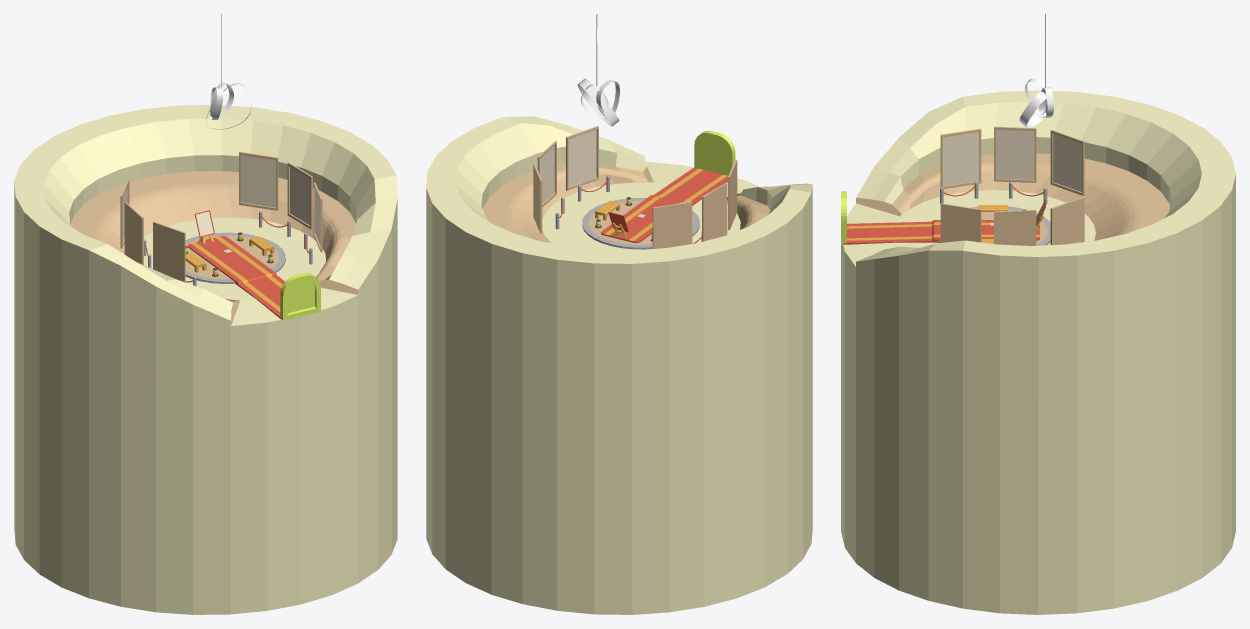
File: MemorialRoom_to_MemorialPiece.fbx
3 views of the same model, side by side, from view 1: azimuth 30°, elevation 25°; view 2: azimuth 150°, elevation 25°; view 3: azimuth 270°, elevation 25° (orthographic). The views are drawn at different scales.
Visible parts, largest first — view 1: Hall, Picture.002, Picture.001, Picture, Cube.001, Portal, Cube, Chair.001; view 2: Hall, Picture, Picture.002, Picture.001, Portal, Cube, Cube.001, BezierCircle; view 3: Hall, Picture.001, Picture, Picture.002, Cube, BezierCircle.
Boxes of the visible parts, bbox=[...] form: Hall: bbox=[14, 105, 397, 614]; Picture.002: bbox=[120, 151, 278, 248]; Picture.001: bbox=[124, 162, 312, 264]; Picture: bbox=[153, 182, 322, 282]; Cube.001: bbox=[187, 236, 276, 284]; Portal: bbox=[280, 273, 320, 320]; Cube: bbox=[230, 275, 284, 319]; Chair.001: bbox=[185, 236, 274, 272]; Hall: bbox=[426, 116, 812, 614]; Picture: bbox=[566, 126, 737, 230]; Picture.002: bbox=[533, 163, 692, 248]; Picture.001: bbox=[537, 141, 727, 241]; Portal: bbox=[694, 130, 735, 175]; Cube: bbox=[653, 167, 728, 205]; Cube.001: bbox=[601, 195, 682, 243]; BezierCircle: bbox=[577, 78, 619, 126]; Hall: bbox=[841, 90, 1235, 614]; Picture.001: bbox=[994, 126, 1036, 245]; Picture: bbox=[940, 128, 981, 242]; Picture.002: bbox=[1050, 130, 1084, 244]; Cube: bbox=[843, 221, 932, 244]; BezierCircle: bbox=[1019, 91, 1048, 128].
Size of the model in its own units: 11453 by 16867 by 11453.
